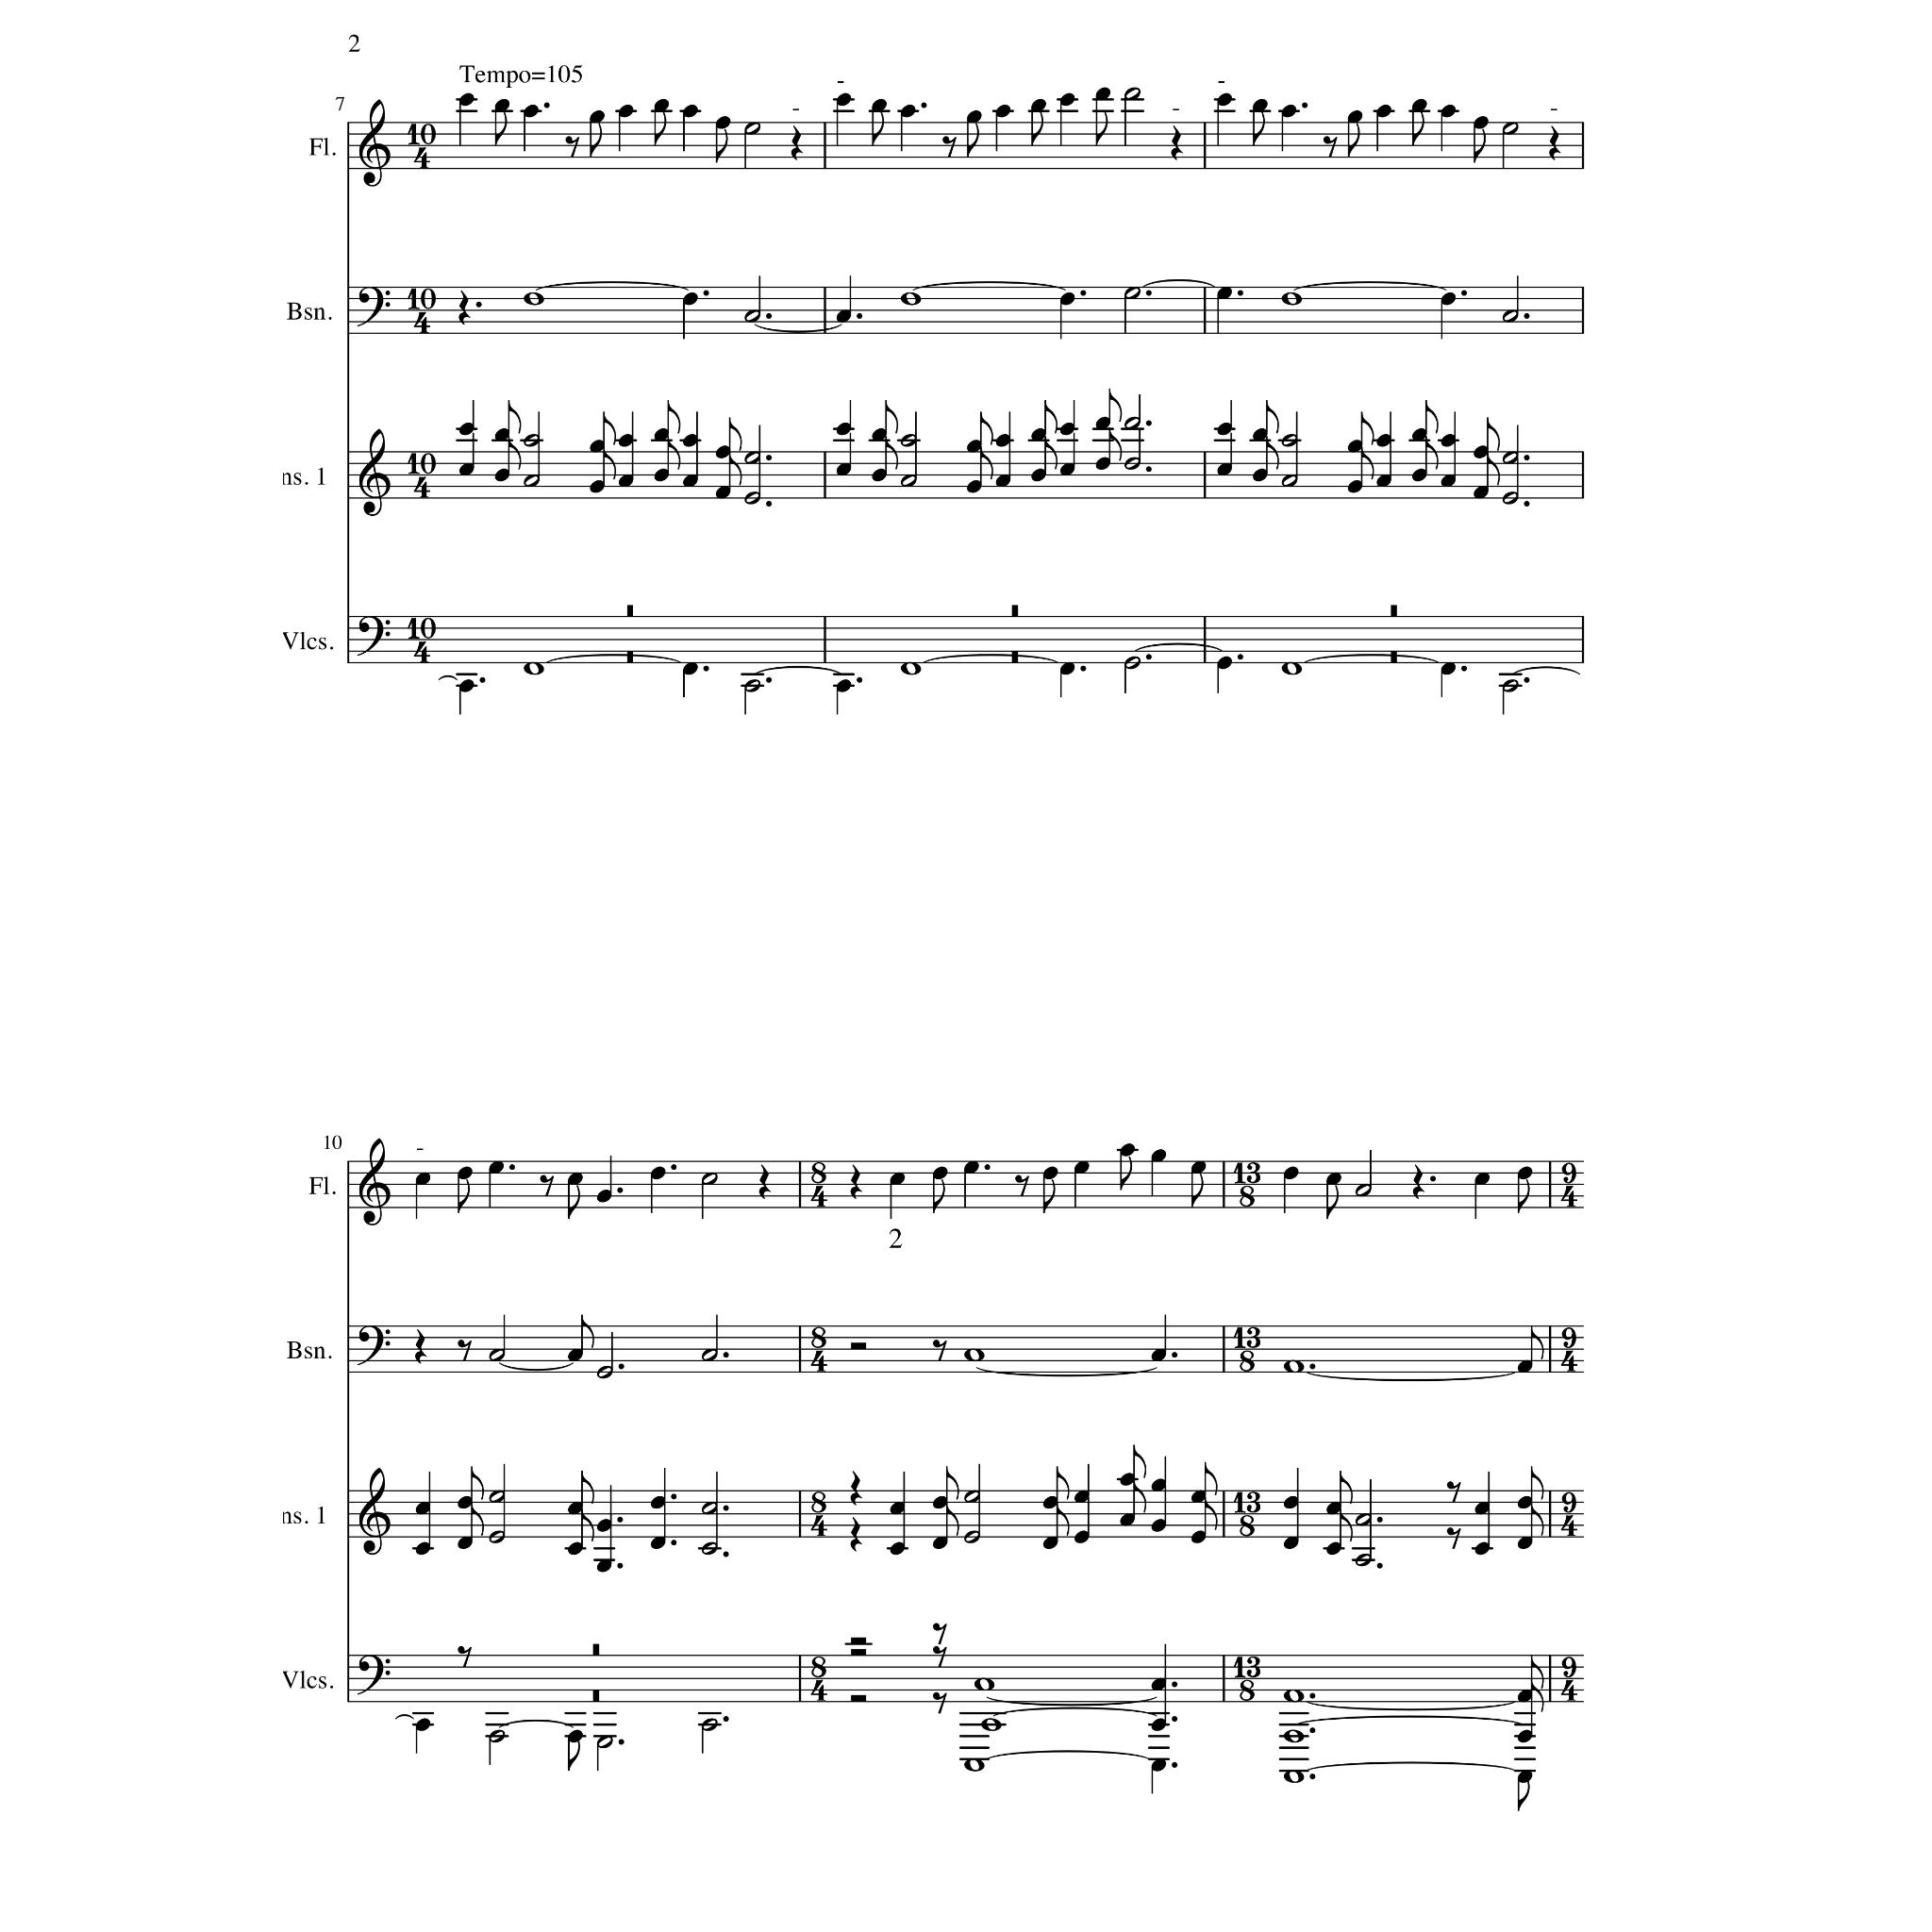fClef: (357, 1655, 391, 1696), (357, 1324, 391, 1366), (357, 287, 391, 326), (357, 617, 391, 657)
flag8thDown: (1347, 123, 1360, 158), (1253, 112, 1266, 146), (1474, 129, 1487, 163), (494, 112, 508, 146), (872, 112, 885, 146), (715, 129, 728, 163), (1191, 1174, 1204, 1207), (1043, 1179, 1057, 1213), (1517, 1179, 1530, 1213), (1517, 1777, 1530, 1811), (1326, 1185, 1340, 1219), (568, 1185, 581, 1219), (568, 1737, 581, 1771), (932, 1179, 945, 1213), (591, 123, 602, 158), (968, 123, 979, 158), (1032, 112, 1043, 146), (1096, 112, 1108, 146), (1413, 112, 1424, 146), (655, 112, 666, 146), (1121, 1157, 1132, 1191), (458, 1179, 470, 1213)
flag8thUp: (1266, 400, 1279, 434), (1266, 437, 1279, 471), (1044, 437, 1058, 471), (1044, 400, 1058, 434), (1109, 428, 1123, 462), (1109, 389, 1123, 423), (1487, 418, 1500, 452), (1487, 453, 1500, 487), (1361, 412, 1374, 446), (1361, 446, 1374, 480), (1425, 400, 1439, 434), (1425, 437, 1439, 471), (603, 412, 616, 446), (603, 446, 616, 480), (667, 437, 680, 471), (667, 400, 680, 434), (508, 400, 521, 434), (508, 437, 521, 471), (885, 400, 898, 434), (885, 437, 898, 471), (980, 412, 993, 446), (980, 446, 993, 480), (729, 418, 742, 452), (729, 453, 742, 487), (1205, 1462, 1218, 1496), (1205, 1497, 1218, 1531), (1133, 1445, 1146, 1479), (1133, 1479, 1146, 1513), (1057, 1467, 1070, 1501), (1057, 1503, 1070, 1537), (1531, 1467, 1544, 1501), (1531, 1503, 1544, 1537), (1531, 1326, 1544, 1360), (1531, 1679, 1544, 1713), (1531, 1656, 1544, 1690), (1340, 1471, 1353, 1505), (1340, 1508, 1353, 1542), (581, 1315, 594, 1349), (581, 1471, 594, 1505), (581, 1508, 594, 1542), (471, 1467, 484, 1501), (471, 1503, 484, 1537), (946, 1503, 959, 1537), (946, 1467, 959, 1501)
gClef: (358, 99, 391, 188), (358, 428, 391, 517), (358, 1467, 391, 1556), (358, 1138, 391, 1226)
noteheadBlack: (1030, 98, 1047, 113), (1094, 87, 1111, 102), (653, 98, 670, 113), (1283, 1166, 1300, 1181), (1041, 1166, 1058, 1181), (1119, 1472, 1136, 1487), (1474, 1541, 1491, 1557), (566, 1541, 583, 1557), (649, 1166, 666, 1181), (457, 1166, 474, 1181), (889, 1541, 906, 1557), (1217, 462, 1232, 477), (1253, 98, 1268, 113), (1060, 462, 1075, 477), (1411, 98, 1426, 113), (494, 98, 509, 113), (458, 462, 474, 477), (872, 98, 887, 113), (836, 462, 851, 477), (1151, 1717, 1166, 1732), (1517, 1166, 1532, 1181), (1517, 1689, 1532, 1704), (1326, 1541, 1341, 1557), (415, 1541, 430, 1557), (415, 1717, 430, 1732), (932, 1166, 947, 1181), (1030, 428, 1047, 441), (1030, 469, 1047, 482), (1094, 458, 1111, 471), (1094, 417, 1111, 430), (1375, 105, 1392, 118), (1375, 434, 1392, 447), (1375, 475, 1392, 488), (1440, 292, 1457, 306), (1440, 434, 1457, 447), (1440, 475, 1457, 488), (1440, 662, 1457, 675), (1440, 105, 1457, 118), (589, 110, 606, 124), (589, 441, 606, 454), (589, 480, 606, 493), (617, 105, 634, 118), (617, 434, 634, 447), (617, 475, 634, 488), (681, 105, 698, 118), (681, 292, 698, 306), (681, 434, 698, 447), (681, 475, 698, 488), (681, 662, 698, 675), (994, 475, 1011, 488), (653, 469, 670, 482), (653, 428, 670, 441), (523, 105, 540, 118), (966, 110, 983, 124), (966, 441, 983, 454), (966, 480, 983, 493), (994, 105, 1011, 118), (994, 434, 1011, 447), (1191, 1161, 1207, 1174), (1191, 1491, 1207, 1504), (1191, 1530, 1207, 1543), (1283, 1496, 1300, 1509), (1283, 1537, 1300, 1550), (1041, 1496, 1058, 1509), (1041, 1537, 1058, 1550), (1119, 1143, 1136, 1157), (1119, 1513, 1136, 1526), (1474, 1173, 1491, 1186), (1474, 1502, 1491, 1515), (566, 1173, 583, 1186), (566, 1349, 583, 1362), (566, 1502, 583, 1515), (566, 1729, 583, 1742), (457, 1496, 474, 1509), (457, 1537, 474, 1550), (889, 1173, 906, 1186), (889, 1502, 906, 1515), (649, 1496, 666, 1509), (649, 1537, 666, 1550), (1217, 93, 1232, 107), (1217, 287, 1232, 300), (1217, 423, 1232, 436), (1217, 657, 1232, 670), (1281, 105, 1296, 118), (1253, 428, 1268, 441), (1253, 469, 1268, 482), (1060, 93, 1075, 107), (1060, 292, 1075, 306), (1060, 423, 1075, 436), (1060, 662, 1075, 675), (1474, 117, 1489, 130), (1474, 445, 1489, 458), (1474, 486, 1489, 499), (1347, 110, 1362, 124), (1347, 441, 1362, 454), (1347, 480, 1362, 493), (1411, 428, 1426, 441), (1411, 469, 1426, 482), (458, 93, 474, 107), (458, 423, 474, 436), (494, 428, 509, 441), (494, 469, 509, 482), (458, 679, 474, 692), (872, 428, 887, 441), (872, 469, 887, 482), (900, 105, 915, 118), (715, 117, 730, 130), (715, 445, 730, 458), (715, 486, 730, 499), (836, 93, 851, 107), (836, 309, 851, 323), (836, 423, 851, 436), (836, 679, 851, 692), (1151, 1678, 1166, 1691), (1151, 1758, 1166, 1772), (1151, 1149, 1166, 1162), (1151, 1349, 1166, 1362), (1151, 1479, 1166, 1492), (1074, 1530, 1089, 1543), (1074, 1161, 1089, 1174), (1074, 1491, 1089, 1504), (1151, 1519, 1166, 1532), (1517, 1496, 1532, 1509), (1517, 1360, 1532, 1374), (1517, 1537, 1532, 1550), (1517, 1729, 1532, 1742), (1517, 1770, 1532, 1783), (1326, 1173, 1341, 1186), (1326, 1502, 1341, 1515), (596, 1190, 611, 1203), (596, 1519, 611, 1532), (596, 1559, 611, 1573), (415, 1173, 430, 1186), (415, 1502, 430, 1515), (489, 1161, 504, 1174), (964, 1161, 979, 1174), (932, 1496, 947, 1509), (932, 1537, 947, 1550)
noteheadHalf: (701, 1541, 718, 1557), (1281, 434, 1298, 447), (1281, 475, 1298, 488), (1124, 88, 1141, 101), (1124, 287, 1141, 300), (1124, 417, 1141, 430), (1124, 458, 1141, 471), (1124, 657, 1141, 670), (1502, 679, 1519, 692), (1502, 492, 1519, 506), (1502, 122, 1519, 135), (1502, 309, 1519, 323), (1502, 452, 1519, 465), (523, 434, 540, 447), (523, 475, 540, 488), (900, 434, 917, 447), (900, 475, 917, 488), (743, 122, 760, 135), (743, 309, 760, 323), (743, 452, 760, 465), (743, 492, 760, 506), (743, 679, 760, 692), (1355, 1184, 1372, 1197), (1355, 1513, 1372, 1526), (1355, 1554, 1372, 1567), (488, 1531, 505, 1544), (488, 1729, 505, 1742), (488, 1491, 505, 1504), (596, 1366, 613, 1379), (596, 1736, 613, 1749), (488, 1349, 505, 1362), (963, 1491, 980, 1504), (963, 1531, 980, 1544), (701, 1173, 718, 1186), (701, 1719, 718, 1732), (701, 1502, 718, 1515), (701, 1349, 718, 1362)
noteheadWhole: (979, 1717, 1002, 1732), (1283, 1770, 1304, 1785), (1283, 1689, 1304, 1704), (974, 1677, 994, 1692), (523, 292, 545, 306), (523, 662, 545, 675), (1281, 292, 1302, 306), (1281, 662, 1302, 675), (900, 292, 921, 306), (900, 662, 921, 675), (1283, 1360, 1304, 1374), (1283, 1730, 1304, 1743), (964, 1758, 985, 1772), (964, 1349, 985, 1362)
rest8th: (1323, 136, 1338, 158), (564, 136, 579, 158), (941, 136, 957, 158), (1014, 1174, 1029, 1197), (1446, 1481, 1461, 1504), (1446, 1527, 1461, 1550), (540, 1174, 555, 1197), (457, 1340, 472, 1362), (457, 1645, 472, 1668), (932, 1340, 947, 1362), (932, 1623, 947, 1645), (932, 1691, 947, 1714), (932, 1645, 947, 1668)
restHalf: (844, 1638, 873, 1645), (851, 1649, 866, 1657), (851, 1695, 866, 1703), (851, 1342, 866, 1350)
restQuarter: (791, 125, 804, 161), (758, 1164, 772, 1200), (849, 1164, 862, 1200), (849, 1471, 862, 1507), (849, 1516, 862, 1552), (1172, 125, 1183, 161), (1549, 125, 1560, 161), (458, 290, 470, 325), (1413, 1164, 1424, 1200), (415, 1328, 426, 1364)
restWhole: (1011, 651, 1019, 664), (625, 651, 633, 664), (1390, 651, 1397, 664), (592, 1643, 600, 1657), (1011, 606, 1019, 617), (625, 606, 633, 617), (1390, 606, 1397, 617), (592, 1690, 600, 1702)
